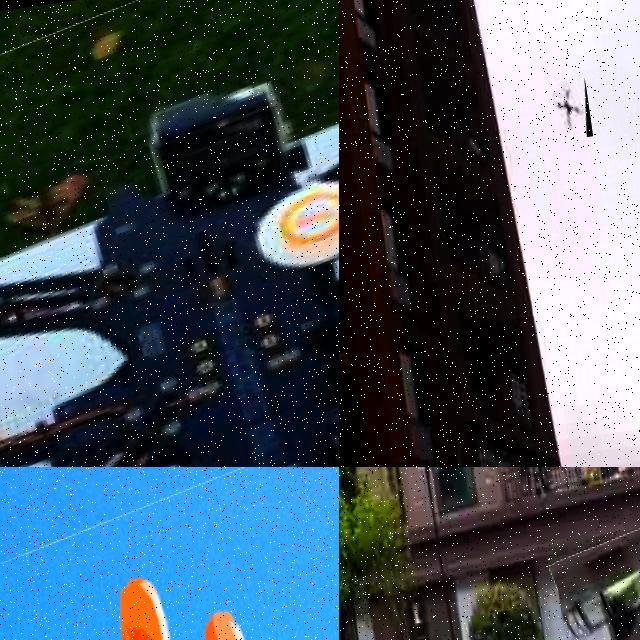0: (549, 496, 640, 640), (550, 77, 593, 141)
drone: (0, 0, 339, 467), (0, 467, 339, 602)
